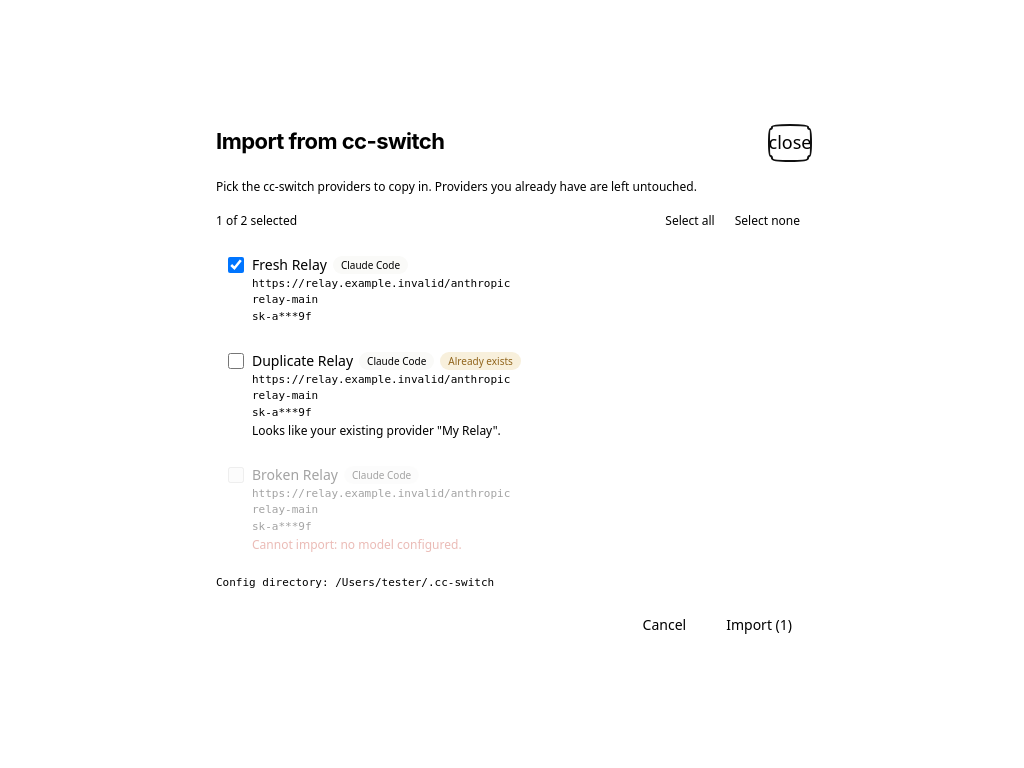
Test: CcSwitchImportModal › selects and clears every importable row on demand
Click the button "Select all": (690, 221) [657,209,723,233]
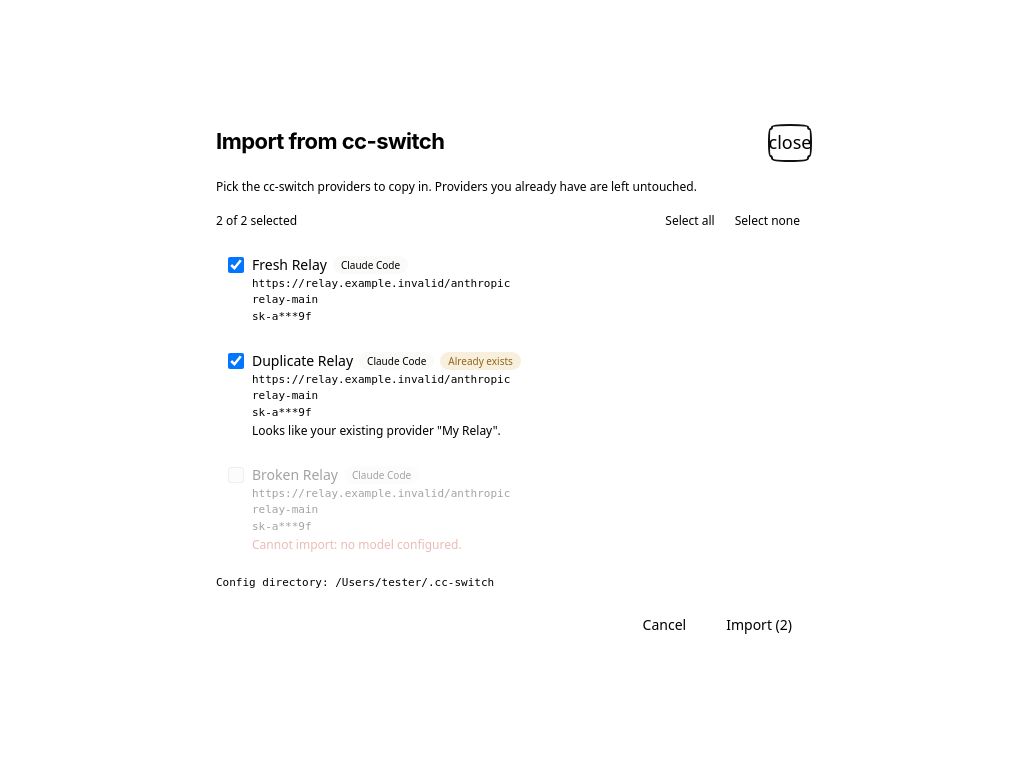
Expected: the button "Import (2)" is enabled, [710,607,808,643]
Result: the checkbox labelled "Duplicate Relay" is checked at [228,353,244,369]
Click the button "Select none": (767, 221) [727,209,808,233]
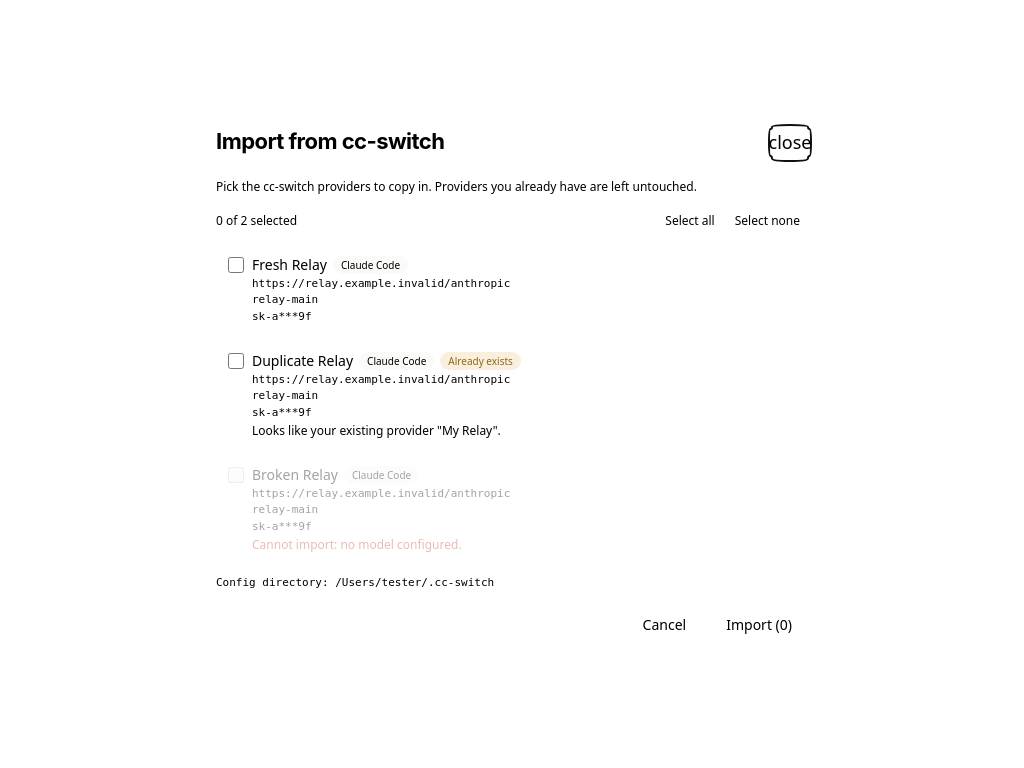
Result: the button "Import (0)" is disabled at [710,607,808,643]
